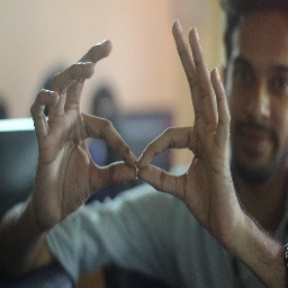B: (69, 94, 215, 213)
